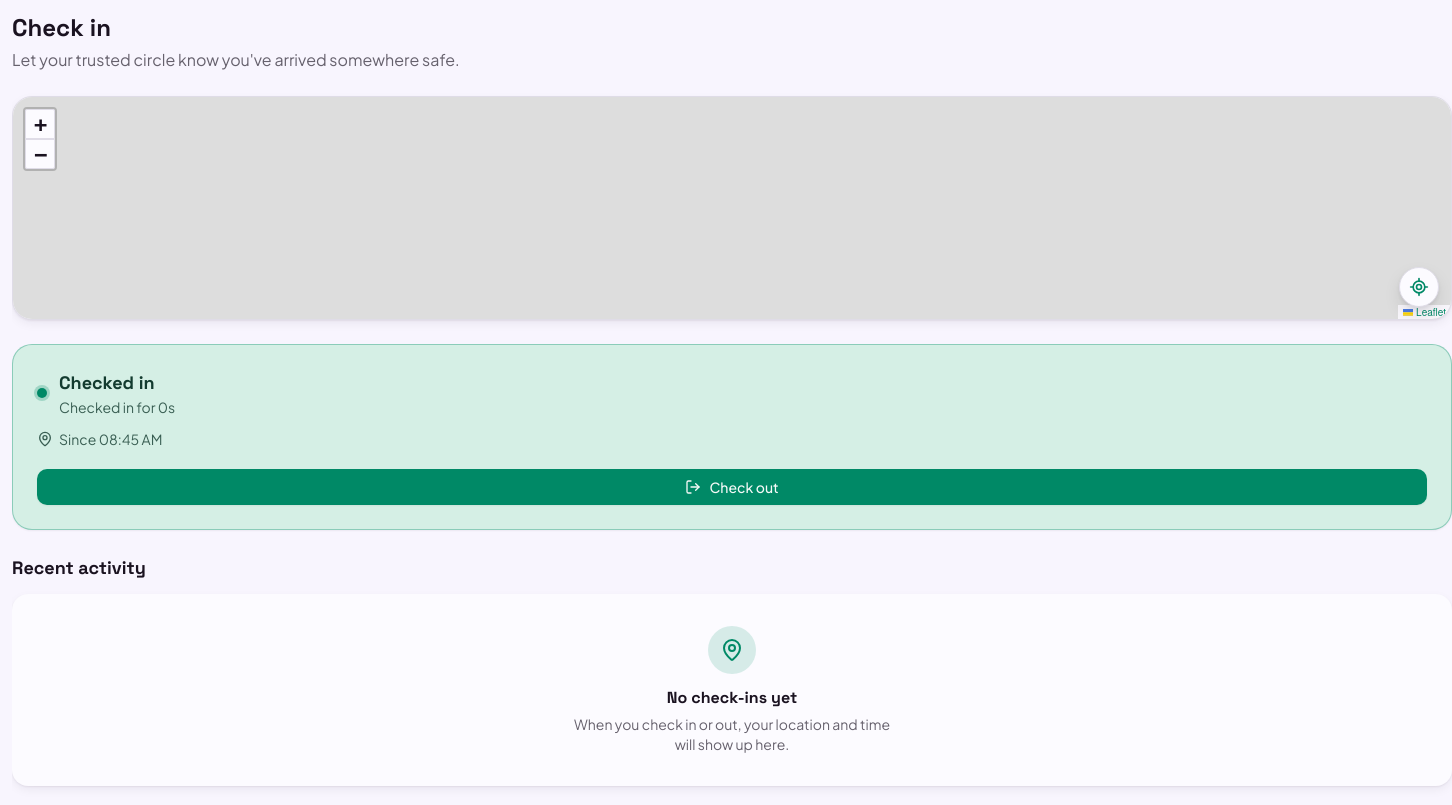
CheckInPage › returns to checked-out when the user checks out
Expected: the text "Checked in" is shown, x1=59 y1=371 x2=154 y2=394
Click the button "Check out" at (732, 487), box x1=37 y1=469 x2=1427 y2=505
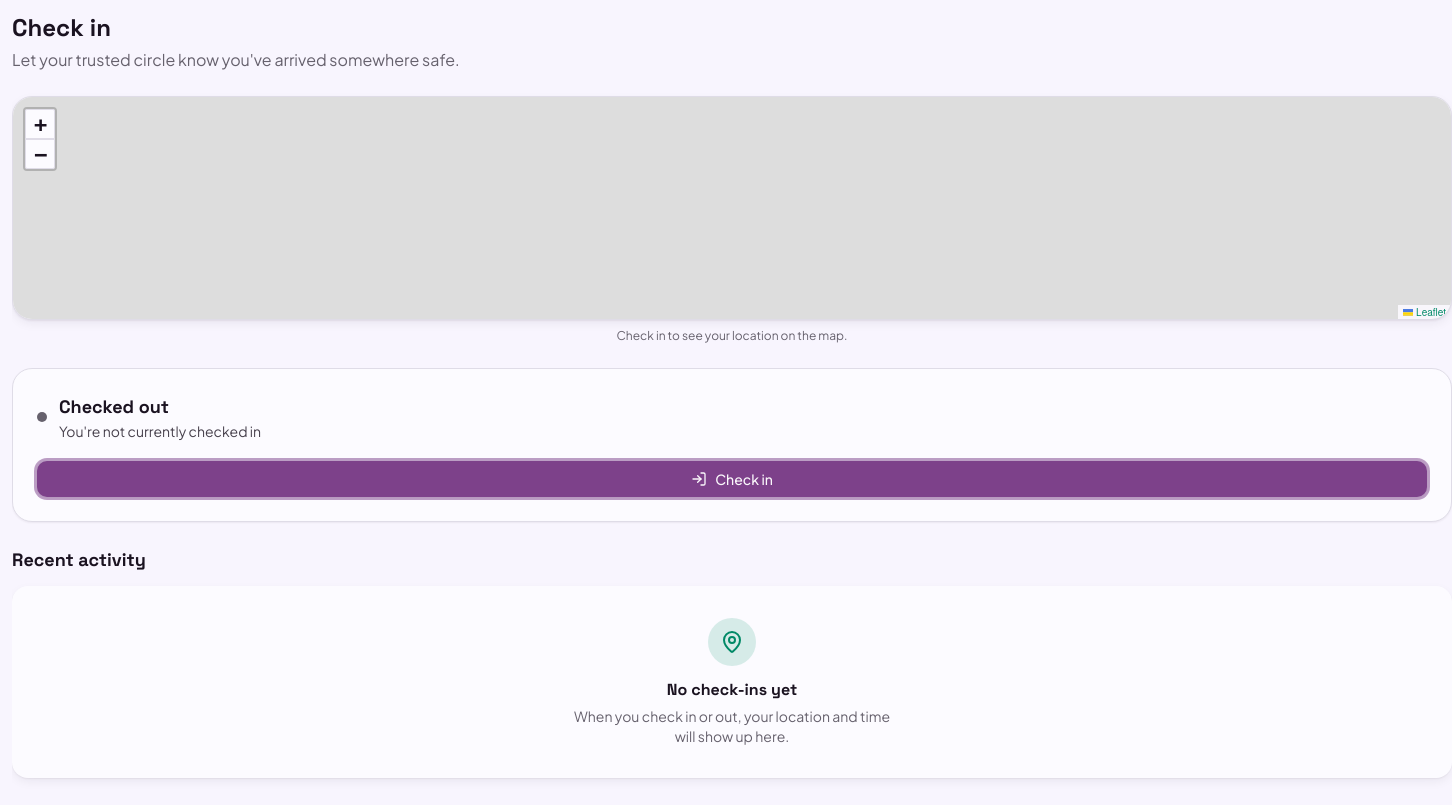
Result: the text "Checked out" is shown at x1=59 y1=395 x2=169 y2=418
